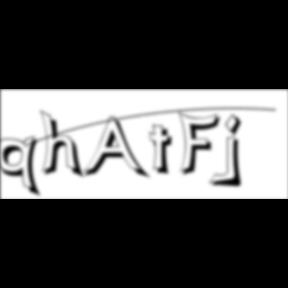A: (82, 116, 152, 182)
F: (178, 110, 226, 178)
h: (40, 108, 88, 182)
j: (222, 113, 250, 191)
q: (0, 135, 46, 200)
t: (148, 124, 180, 179)
